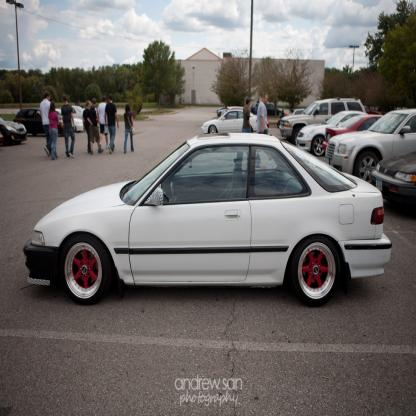Car: (24, 135, 393, 309), (280, 97, 416, 210), (1, 107, 86, 150), (203, 111, 271, 136), (220, 107, 246, 120), (252, 104, 280, 115)
